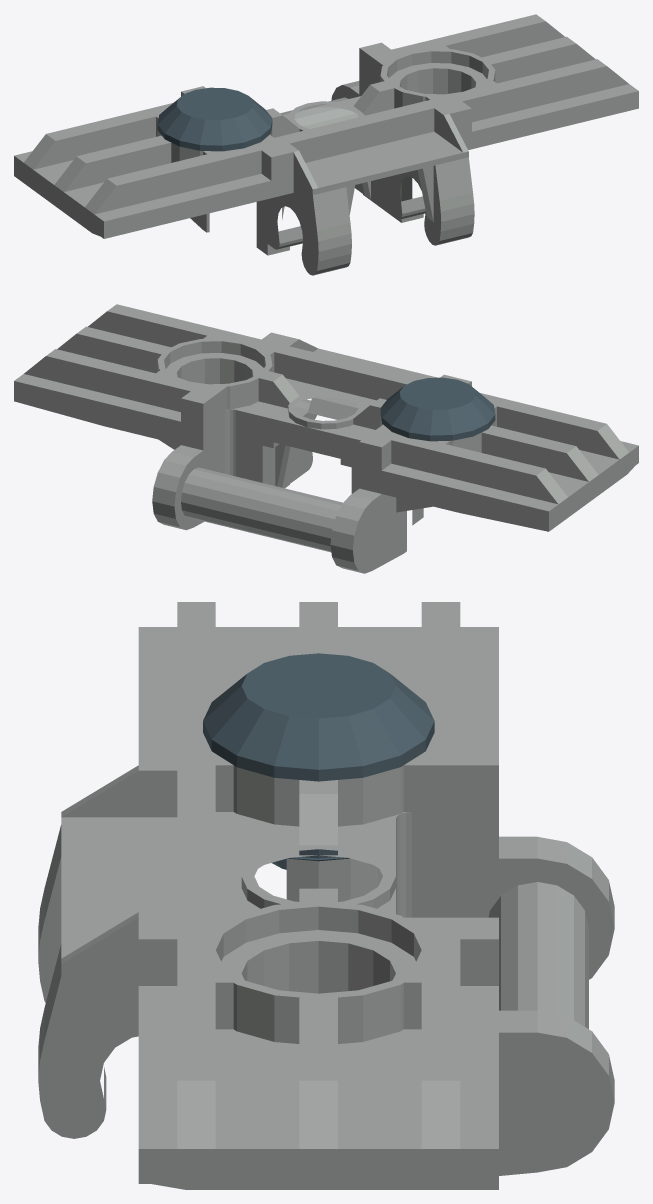
3 views of the same model, one above another, from view 1: azimuth 30°, elevation 25°; view 2: azimuth 150°, elevation 25°; view 3: azimuth 270°, elevation 25° (orthographic). The views are drawn at different scales.
Parts seen in each view (by area): view 1: world; view 2: world; view 3: world.
Part boxes in pixels (left/top/right/bottom): world: left=14, top=14, right=638, bottom=275; world: left=14, top=304, right=638, bottom=573; world: left=38, top=602, right=614, bottom=1189.
Size of the model in its own units: 0.0384 by 0.01 by 0.0179.
